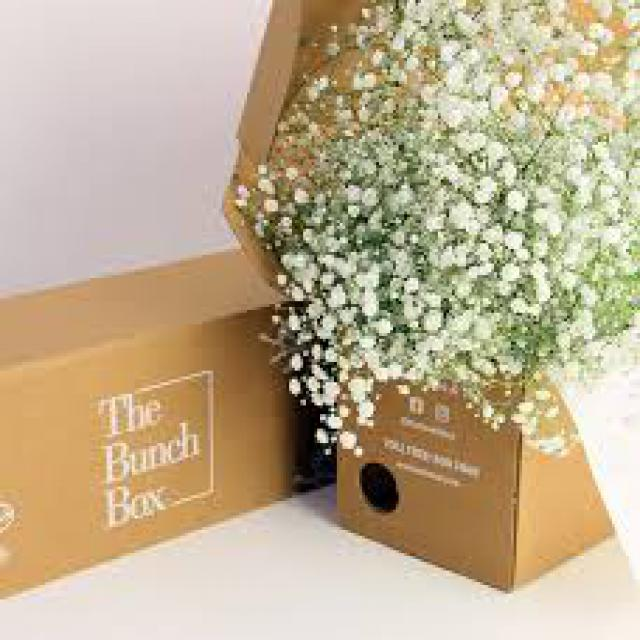gypsophila: (283, 8, 635, 470)
